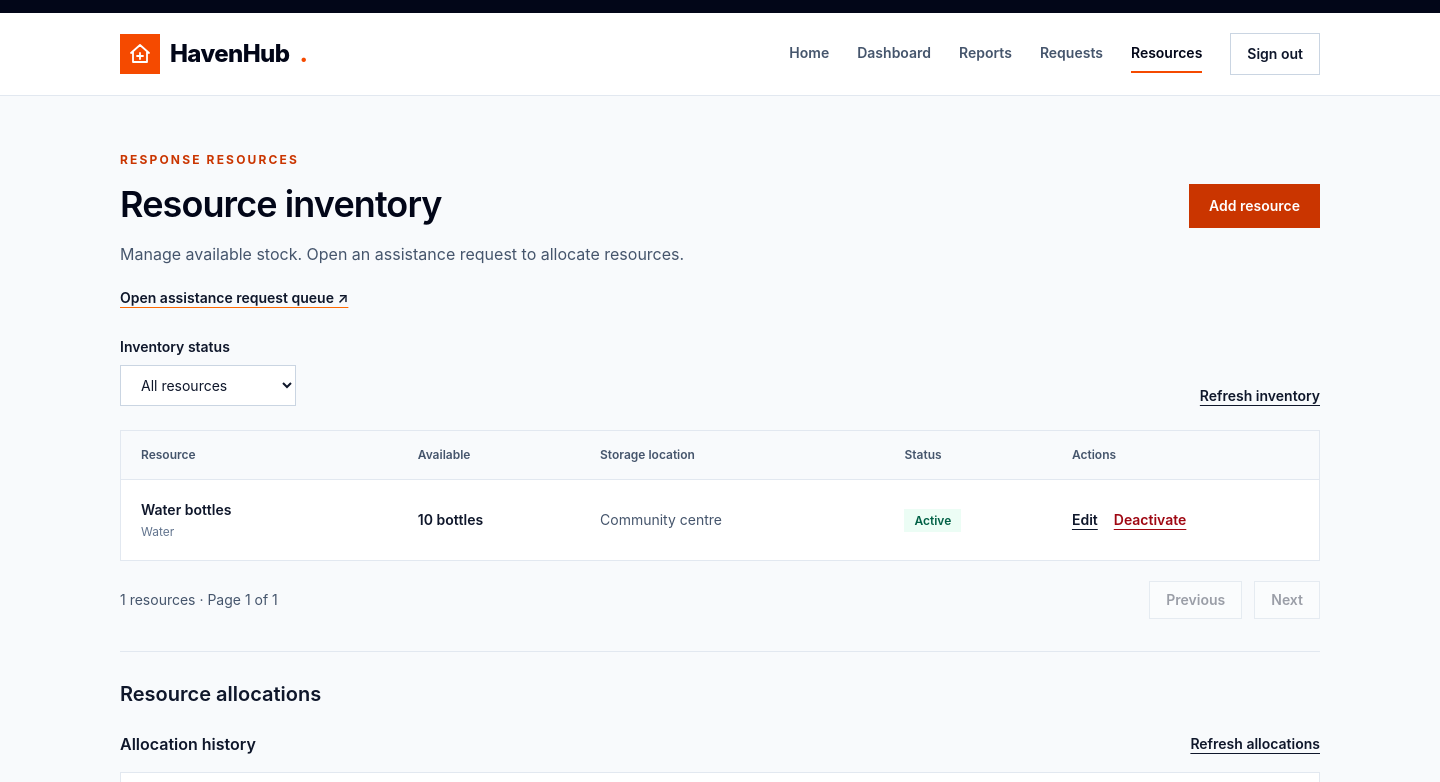
Test case: stale inventory edits require closing and refreshing before another save
The image size is (1440, 782).
Click the button with aria-label "Edit Water bottles": (1085, 520) [1072,510,1098,530]
(page scrolled)
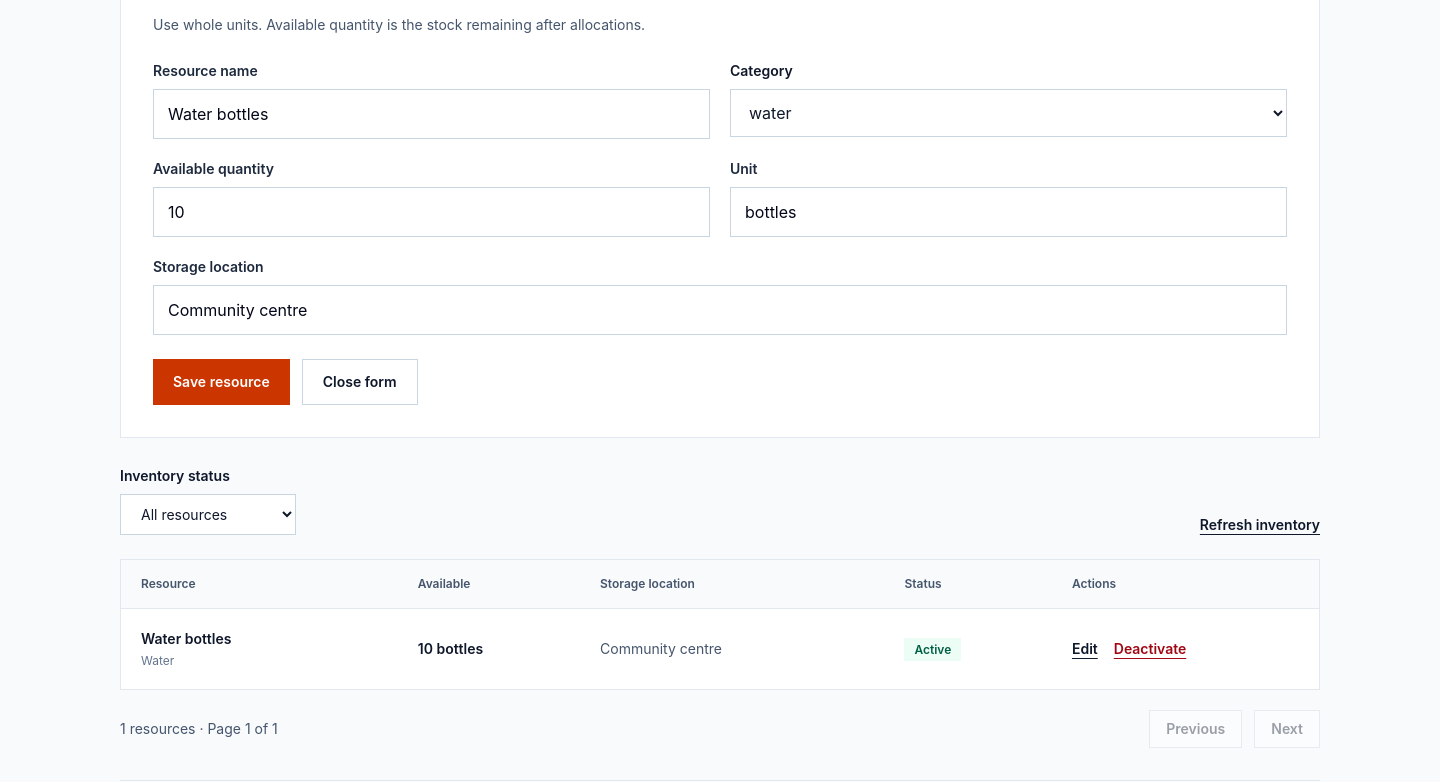
Click the button "Save resource": (221, 382) [153,358,290,404]
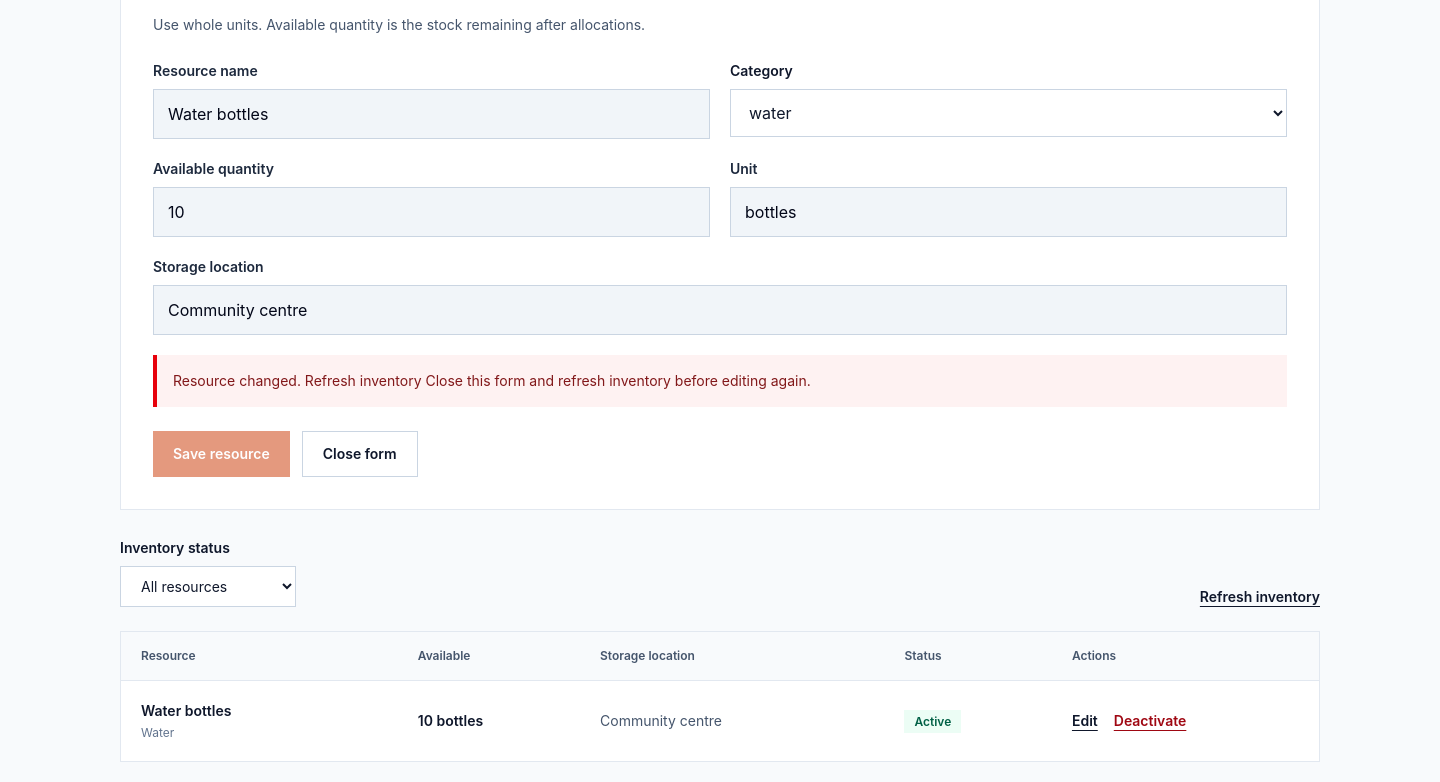
Expected: the message shows "Refresh inventory", [173,372,422,388]
Expected: the button "Save resource" is disabled, [153,430,290,476]
Click the button "Refresh inventory": (1260, 596) [1200,586,1320,606]
(page scrolled)
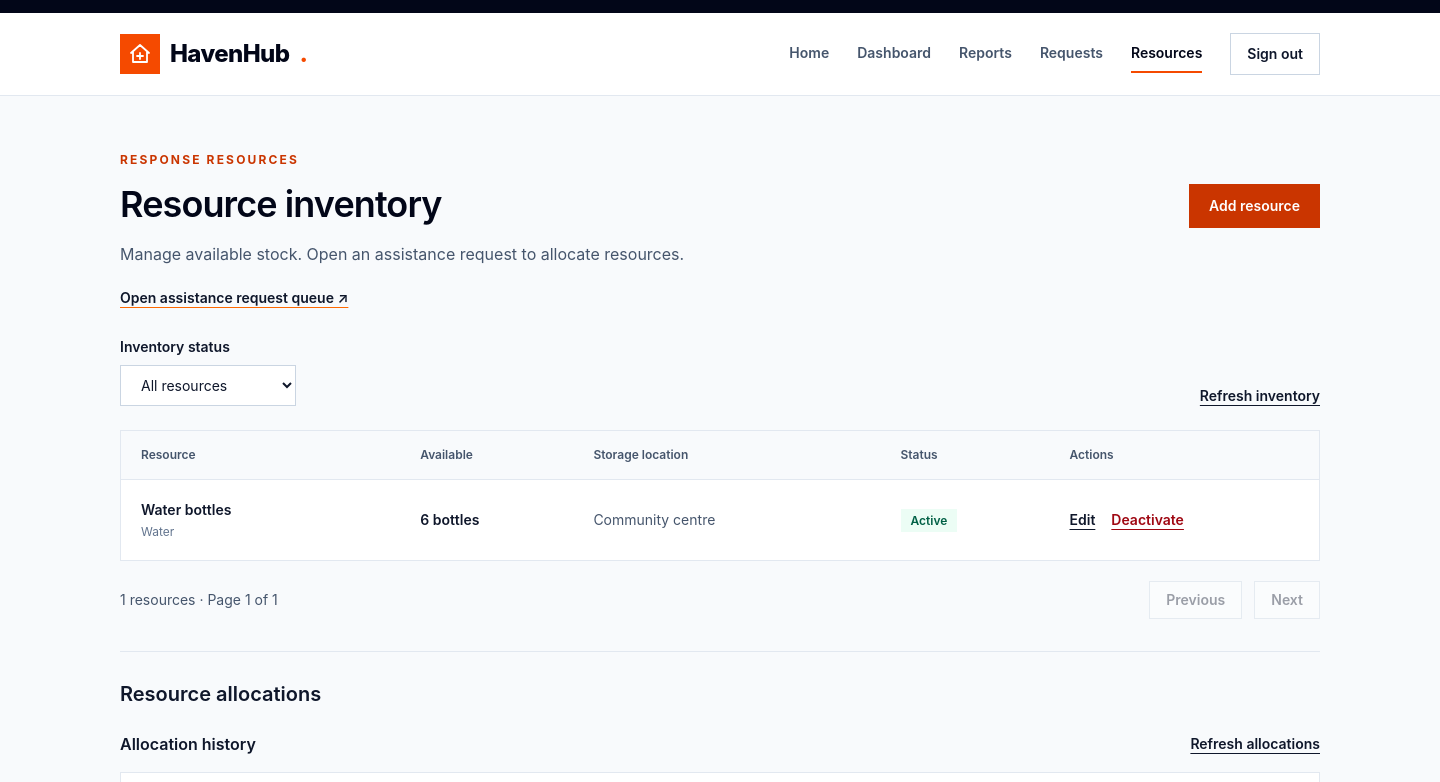
Expected: the text "6 bottles" is shown, [400,480,573,560]
